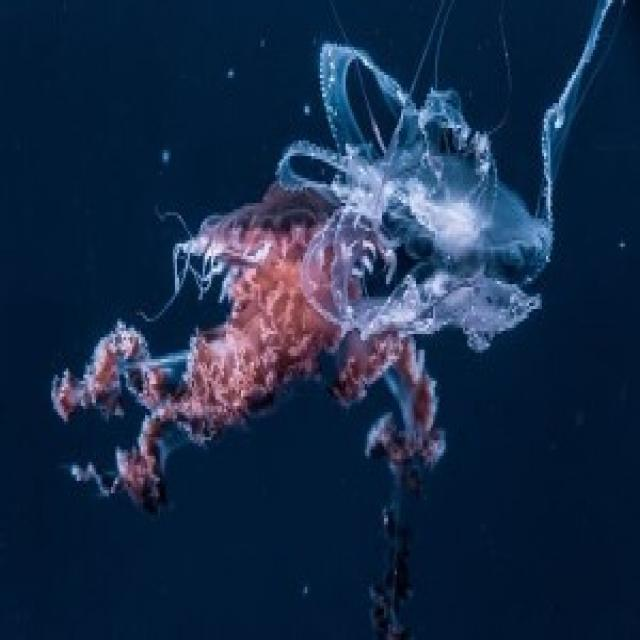Jellyfish: (48, 39, 604, 620)
